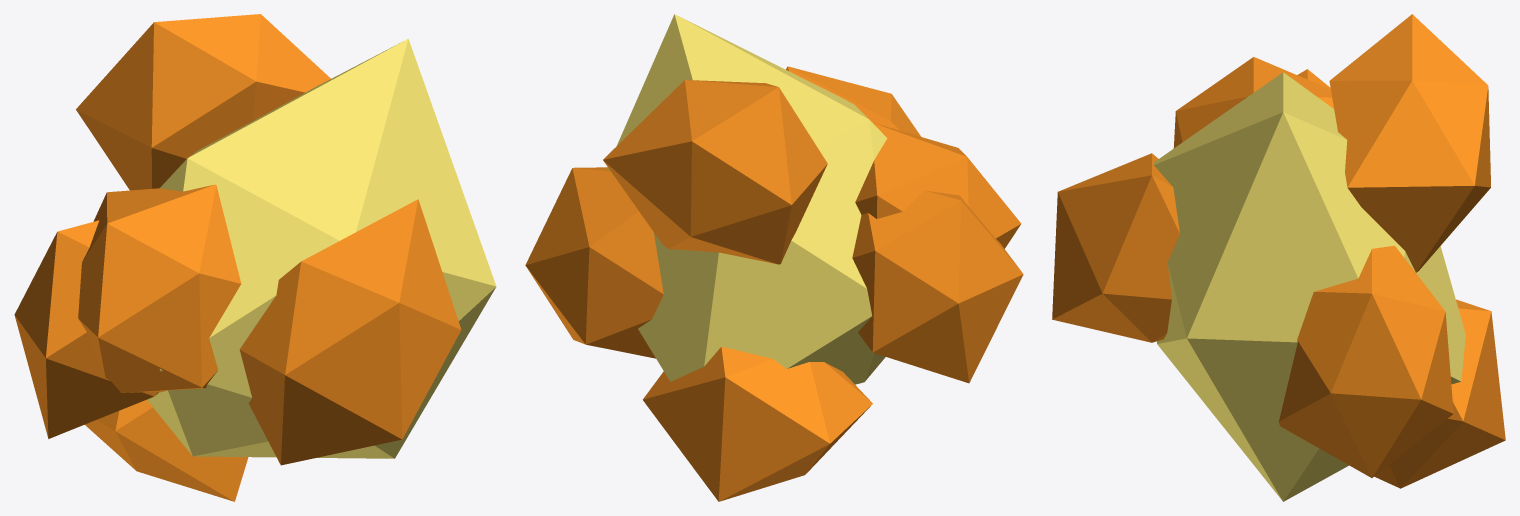
The model's file is frame_3.glb.
3 renders of one model, left to right at view 1: azimuth 30°, elevation 25°; view 2: azimuth 150°, elevation 25°; view 3: azimuth 270°, elevation 25°, orthographic. The views are drawn at different scales.
Parts seen in each view (by area): view 1: effect_explosion_small_frame_3; view 2: effect_explosion_small_frame_3; view 3: effect_explosion_small_frame_3.
Boxes of the visible parts, x1=… form: effect_explosion_small_frame_3: x1=14, y1=14, x2=496, y2=501; effect_explosion_small_frame_3: x1=525, y1=14, x2=1023, y2=501; effect_explosion_small_frame_3: x1=1052, y1=14, x2=1505, y2=501.
Bounding box in the file's own units: 6.84 × 6.35 × 5.94.
